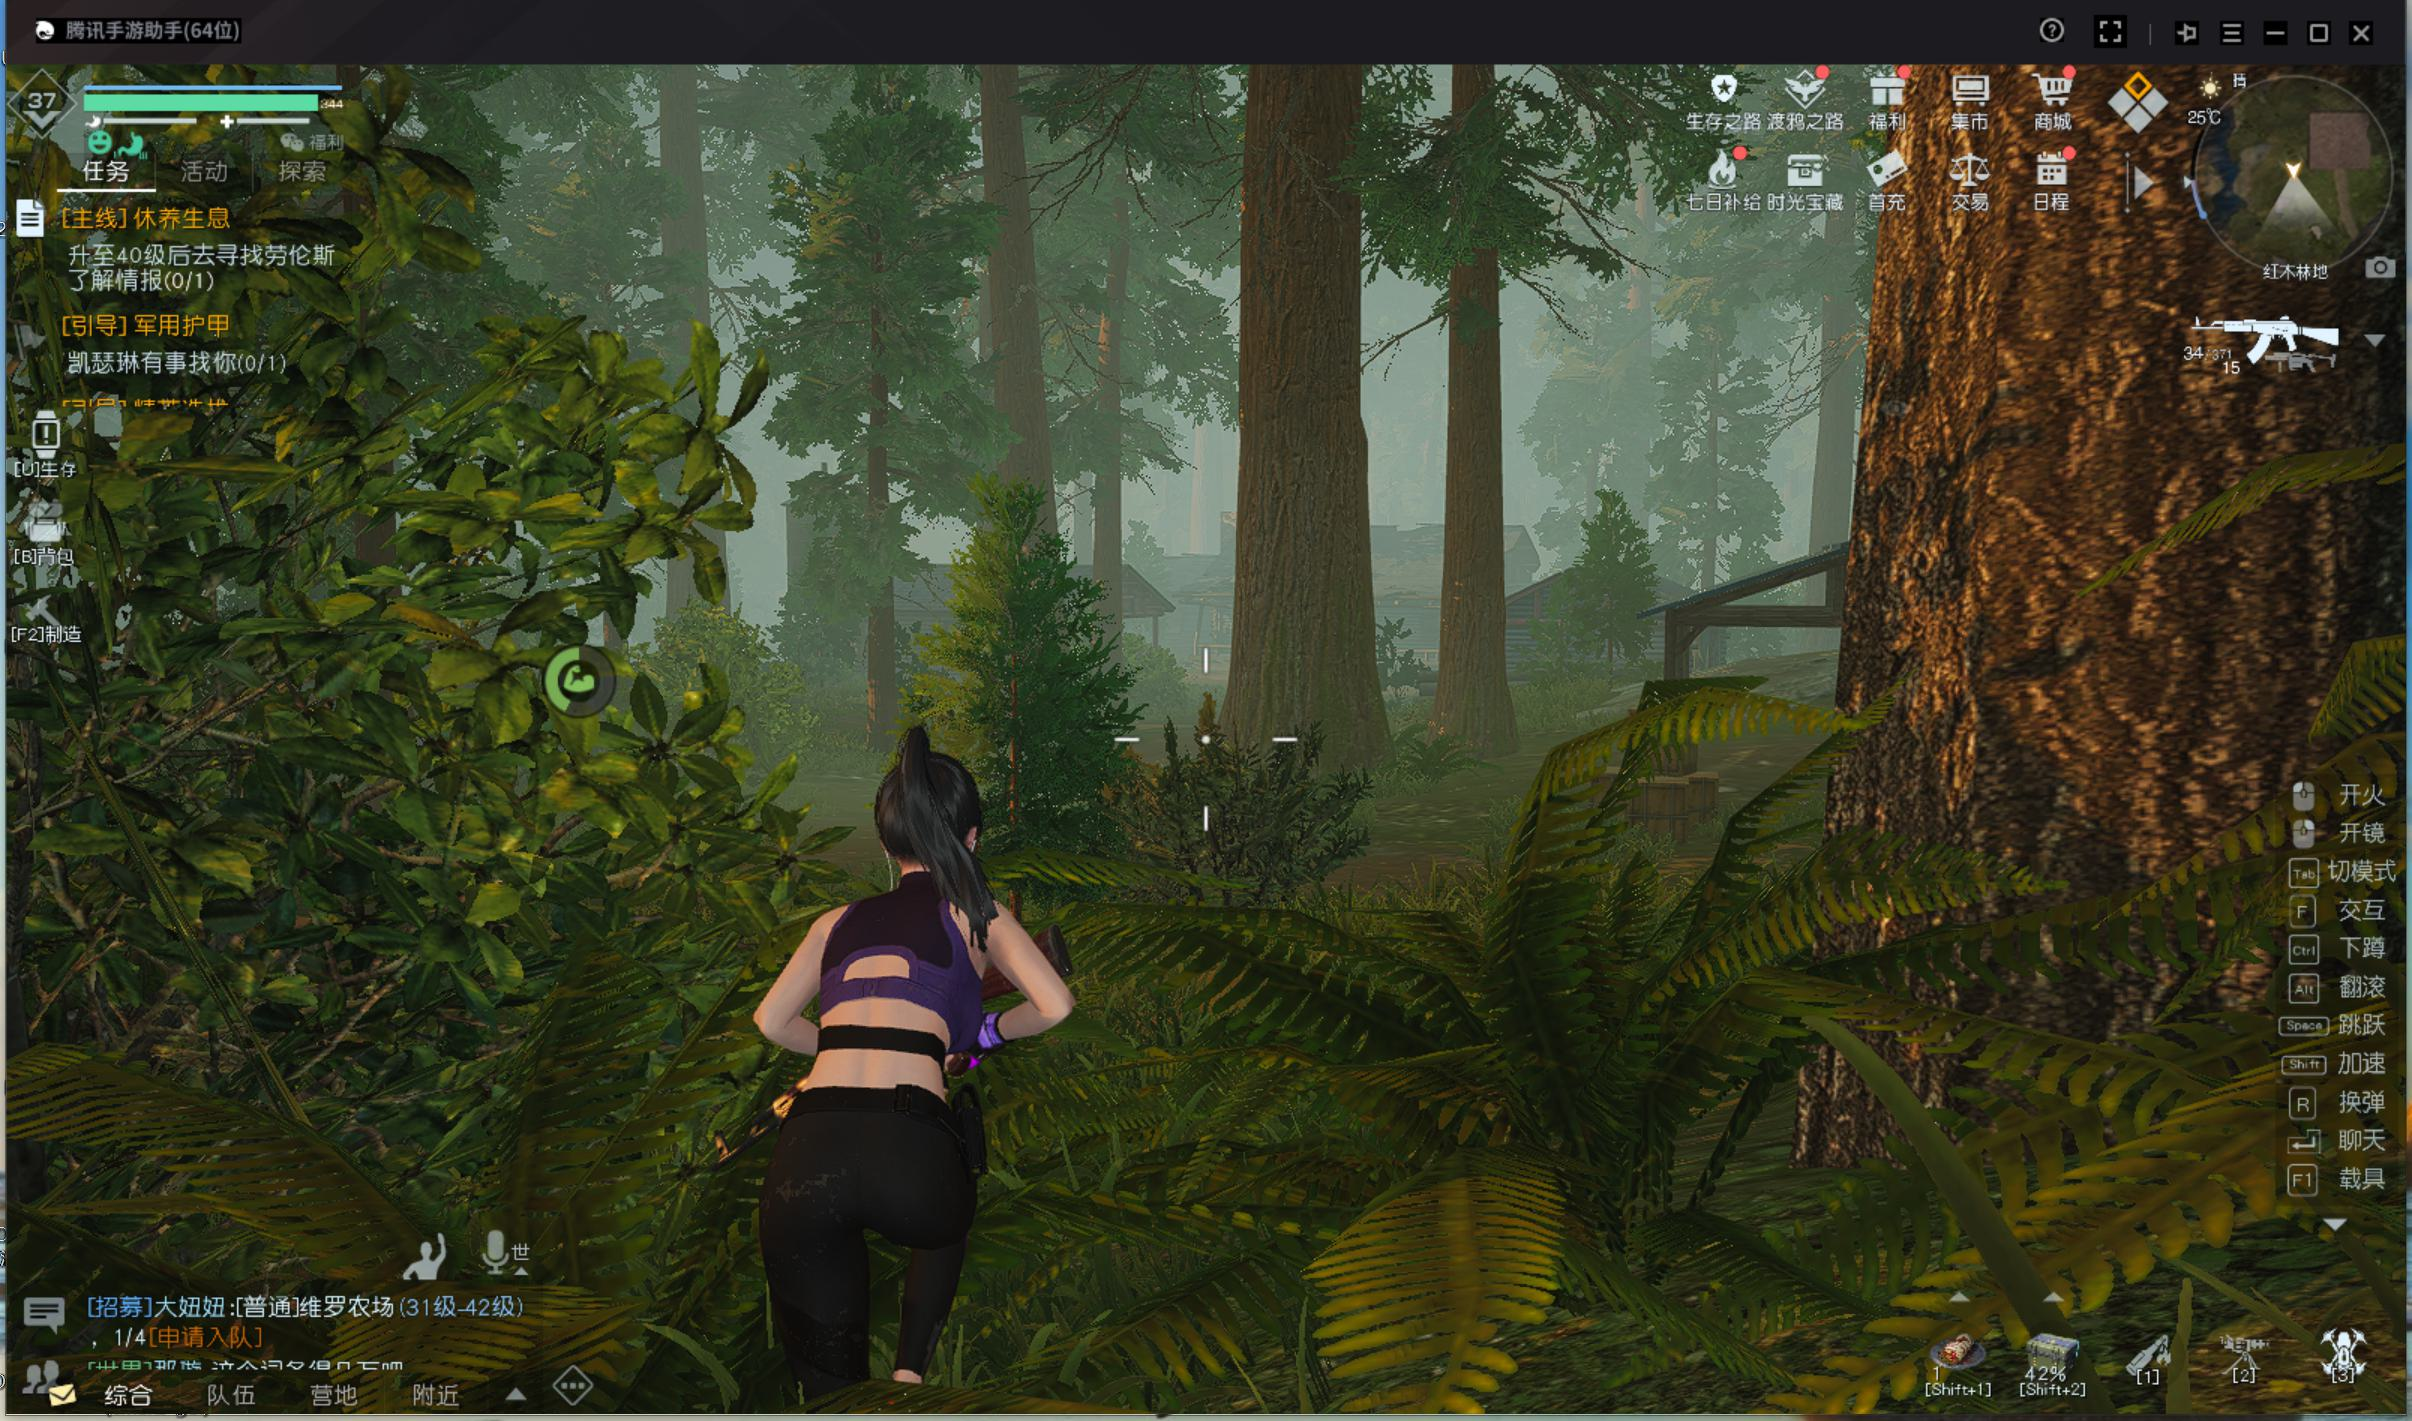tree: (1214, 195, 1385, 790), (969, 249, 1066, 809), (1433, 230, 1522, 780), (1086, 284, 1128, 798), (847, 452, 905, 753), (1806, 337, 1845, 621)
